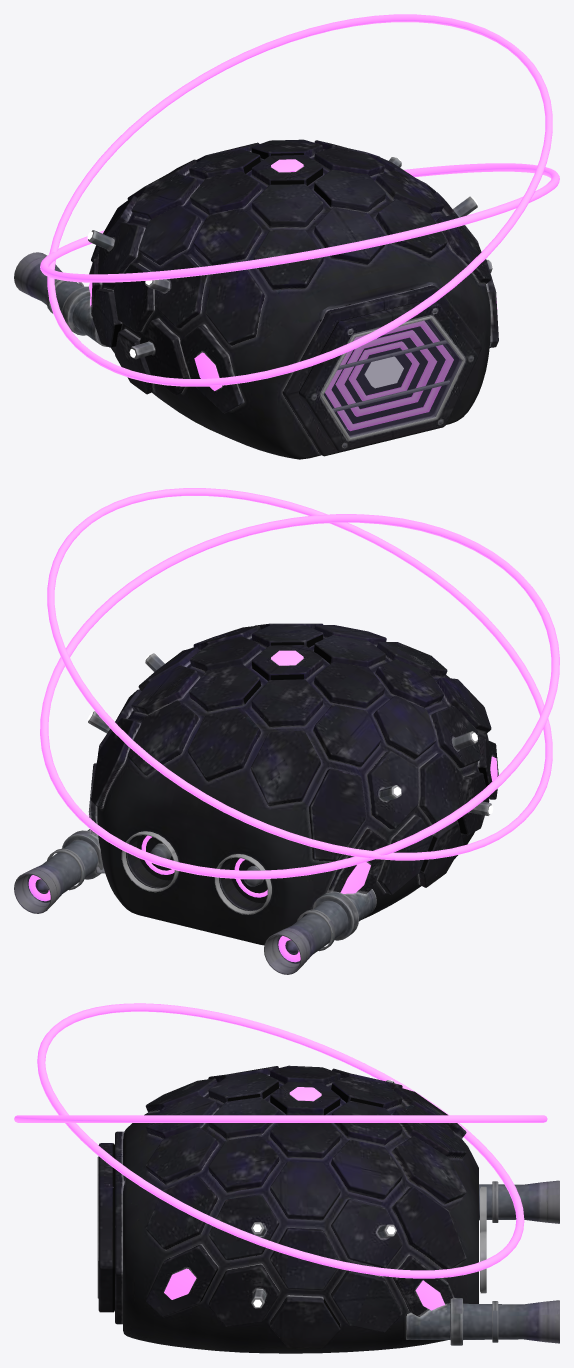
The model's file is hex.glb.
3 views of the same model, one above another, from view 1: azimuth 30°, elevation 25°; view 2: azimuth 150°, elevation 25°; view 3: azimuth 270°, elevation 25° (orthographic).
Visible parts, largest first — view 1: hex_body, spin_ring2, hex_glass, hex_emissive, spin_ring1; view 2: hex_body, spin_ring1, spin_ring2, hex_emissive; view 3: hex_body, spin_ring1, spin_ring2, hex_emissive.
Part boxes in pixels (box(x1,y1,x2,y2)): hex_body: box(14, 139, 498, 459); spin_ring2: box(47, 14, 552, 386); hex_glass: box(324, 319, 461, 437); hex_emissive: box(87, 157, 497, 430); spin_ring1: box(40, 163, 559, 282); hex_body: box(14, 623, 498, 974); spin_ring1: box(40, 514, 559, 879); spin_ring2: box(47, 488, 552, 860); hex_emissive: box(28, 650, 497, 962); hex_body: box(97, 1065, 559, 1353); spin_ring1: box(37, 1003, 524, 1278); spin_ring2: box(14, 1115, 547, 1122); hex_emissive: box(164, 1069, 444, 1310).
Bounding box in the file's own units: 2.56 × 1.55 × 2.7.
Materials: 6 (2 with a texture image).
